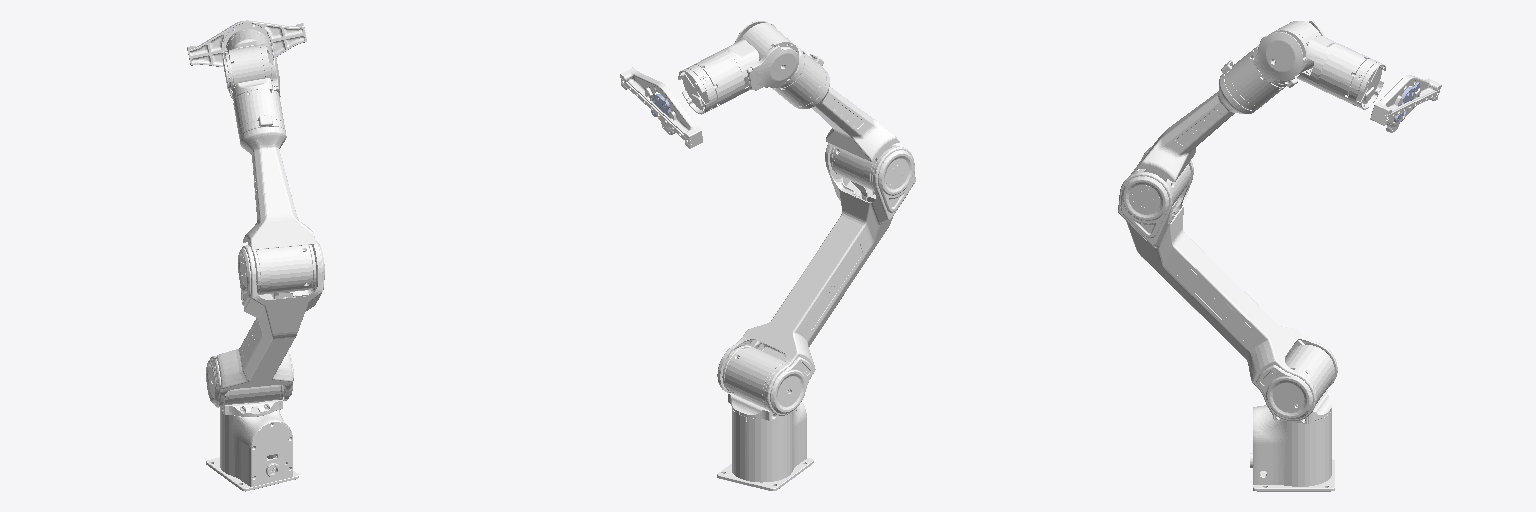
The robot description file, URDF, robot "armmu":
<?xml version="1.0" encoding="utf-8"?>
<!-- This URDF was automatically created by SolidWorks to URDF Exporter! Originally created by [author] ([email redacted]) 
     Commit Version: 1.6.0-4-g7f85cfe  Build Version: 1.6.7995.38578
     For more information, please see http://wiki.ros.org/sw_urdf_exporter -->
<robot
  name="armmu">
  <link
    name="base_link">
    <inertial>
      <origin
        xyz="-0.0049906 0.001504 0.0005019"
        rpy="0 0 0" />
      <mass
        value="0.16229" />
      <inertia
        ixx="0.00017754"
        ixy="-2.6436E-07"
        ixz="2.077E-07"
        iyy="0.00019628"
        iyz="-7.3089E-06"
        izz="0.00016048" />
    </inertial>
    <visual>
      <origin
        xyz="0 0 0"
        rpy="0 0 0" />
      <geometry>
        <mesh
          filename="package://armmu/meshes/base_link.STL" />
      </geometry>
      <material
        name="">
        <color
          rgba="1 1 1 1" />
      </material>
    </visual>
    <collision>
      <origin
        xyz="0 0 0"
        rpy="0 0 0" />
      <geometry>
        <mesh
          filename="package://armmu/meshes/base_link.STL" />
      </geometry>
    </collision>
  </link>
  <link
    name="Link1">
    <inertial>
      <origin
        xyz="-0.001121 0.033927 -0.00037542"
        rpy="0 0 0" />
      <mass
        value="0.10688" />
      <inertia
        ixx="7.7882E-05"
        ixy="-2.6155E-06"
        ixz="2.3433E-07"
        iyy="8.3471E-05"
        iyz="-2.4748E-07"
        izz="9.2224E-05" />
    </inertial>
    <visual>
      <origin
        xyz="0 0 0"
        rpy="0 0 0" />
      <geometry>
        <mesh
          filename="package://armmu/meshes/Link1.STL" />
      </geometry>
      <material
        name="">
        <color
          rgba="1 1 1 1" />
      </material>
    </visual>
    <collision>
      <origin
        xyz="0 0 0"
        rpy="0 0 0" />
      <geometry>
        <mesh
          filename="package://armmu/meshes/Link1.STL" />
      </geometry>
    </collision>
  </link>
  <joint
    name="joint1"
    type="continuous">
    <origin
      xyz="-0.0049371 0.00925 0.038437"
      rpy="1.5708 0 -0.29706" />
    <parent
      link="base_link" />
    <child
      link="Link1" />
    <axis
      xyz="0 1 0" />
    <limit
      lower="-3.14"
      upper="3.14"
      effort="100"
      velocity="1" />
  </joint>
  <link
    name="Link2">
    <inertial>
      <origin
        xyz="-0.0076562 0.0047022 0.15043"
        rpy="0 0 0" />
      <mass
        value="0.20392" />
      <inertia
        ixx="0.0016275"
        ixy="6.8723E-06"
        ixz="3.9371E-06"
        iyy="0.0016918"
        iyz="-0.00012712"
        izz="0.00023921" />
    </inertial>
    <visual>
      <origin
        xyz="0 0 0"
        rpy="0 0 0" />
      <geometry>
        <mesh
          filename="package://armmu/meshes/Link2.STL" />
      </geometry>
      <material
        name="">
        <color
          rgba="1 1 1 1" />
      </material>
    </visual>
    <collision>
      <origin
        xyz="0 0 0"
        rpy="0 0 0" />
      <geometry>
        <mesh
          filename="package://armmu/meshes/Link2.STL" />
      </geometry>
    </collision>
  </link>
  <joint
    name="joint2"
    type="continuous">
    <origin
      xyz="0 0.043 0"
      rpy="-0.78465 0 0" />
    <parent
      link="Link1" />
    <child
      link="Link2" />
    <axis
      xyz="-1 0 0" />
    <limit
      lower="-3.14"
      upper="3.14"
      effort="100"
      velocity="1" />
  </joint>
  <link
    name="Link3">
    <inertial>
      <origin
        xyz="-0.00043323 0.024114 -0.10205"
        rpy="0 0 0" />
      <mass
        value="0.25929" />
      <inertia
        ixx="0.00020923"
        ixy="5.8493E-07"
        ixz="-9.9948E-07"
        iyy="0.00018257"
        iyz="1.5246E-05"
        izz="9.7294E-05" />
    </inertial>
    <visual>
      <origin
        xyz="0 0 0"
        rpy="0 0 0" />
      <geometry>
        <mesh
          filename="package://armmu/meshes/Link3.STL" />
      </geometry>
      <material
        name="">
        <color
          rgba="1 1 1 1" />
      </material>
    </visual>
    <collision>
      <origin
        xyz="0 0 0"
        rpy="0 0 0" />
      <geometry>
        <mesh
          filename="package://armmu/meshes/Link3.STL" />
      </geometry>
    </collision>
  </link>
  <joint
    name="joint3"
    type="continuous">
    <origin
      xyz="0 0.038605 0.2824"
      rpy="1.4749 0 0" />
    <parent
      link="Link2" />
    <child
      link="Link3" />
    <axis
      xyz="-1 0 0" />
    <limit
      lower="-3.14"
      upper="3.14"
      effort="100"
      velocity="1" />
  </joint>
  <link
    name="Link4">
    <inertial>
      <origin
        xyz="0.00107635274212739 0.000824369137569558 -0.00710818442435024"
        rpy="0 0 0" />
      <mass
        value="0.120706822170496" />
      <inertia
        ixx="4.59017245988586E-05"
        ixy="-3.76106949082763E-08"
        ixz="-7.20048589622133E-08"
        iyy="3.66448805551282E-05"
        iyz="-2.53060525186735E-07"
        izz="3.89787401023863E-05" />
    </inertial>
    <visual>
      <origin
        xyz="0 0 0"
        rpy="0 0 0" />
      <geometry>
        <mesh
          filename="package://armmu/meshes/Link4.STL" />
      </geometry>
      <material
        name="">
        <color
          rgba="1 1 1 1" />
      </material>
    </visual>
    <collision>
      <origin
        xyz="0 0 0"
        rpy="0 0 0" />
      <geometry>
        <mesh
          filename="package://armmu/meshes/Link4.STL" />
      </geometry>
    </collision>
  </link>
  <joint
    name="joint4"
    type="continuous">
    <origin
      xyz="0 0.042715 -0.23598"
      rpy="-0.17245 0.019034 -2.9223" />
    <parent
      link="Link3" />
    <child
      link="Link4" />
    <axis
      xyz="0 -0.087161 0.99619" />
    <limit
      lower="-3.14"
      upper="3.14"
      effort="100"
      velocity="1" />
  </joint>
  <link
    name="Link5">
    <inertial>
      <origin
        xyz="0.0016938 0.0083734 -0.094123"
        rpy="0 0 0" />
      <mass
        value="0.29225" />
      <inertia
        ixx="0.00015798"
        ixy="-6.905E-08"
        ixz="-2.437E-05"
        iyy="0.00022382"
        iyz="2.8075E-06"
        izz="0.00018803" />
    </inertial>
    <visual>
      <origin
        xyz="0 0 0"
        rpy="0 0 0" />
      <geometry>
        <mesh
          filename="package://armmu/meshes/Link5.STL" />
      </geometry>
      <material
        name="">
        <color
          rgba="1 1 1 1" />
      </material>
    </visual>
    <collision>
      <origin
        xyz="0 0 0"
        rpy="0 0 0" />
      <geometry>
        <mesh
          filename="package://armmu/meshes/Link5.STL" />
      </geometry>
    </collision>
  </link>
  <joint
    name="joint5"
    type="continuous">
    <origin
      xyz="0 0.001041 -0.011898"
      rpy="1.022 0 0" />
    <parent
      link="Link4" />
    <child
      link="Link5" />
    <axis
      xyz="-1 0 0" />
    <limit
      lower="-3.14"
      upper="3.14"
      effort="100"
      velocity="1" />
  </joint>
  <link
    name="Link6">
    <inertial>
      <origin
        xyz="-1.078E-06 -0.0079358 1.396E-06"
        rpy="0 0 0" />
      <mass
        value="0.0050886" />
      <inertia
        ixx="5.534E-07"
        ixy="1.3344E-11"
        ixz="1.5837E-07"
        iyy="9.9659E-07"
        iyz="-1.7332E-11"
        izz="4.6806E-07" />
    </inertial>
    <visual>
      <origin
        xyz="0 0 0"
        rpy="0 0 0" />
      <geometry>
        <mesh
          filename="package://armmu/meshes/Link6.STL" />
      </geometry>
      <material
        name="">
        <color
          rgba="0.79216 0.81961 0.93333 1" />
      </material>
    </visual>
    <collision>
      <origin
        xyz="0 0 0"
        rpy="0 0 0" />
      <geometry>
        <mesh
          filename="package://armmu/meshes/Link6.STL" />
      </geometry>
    </collision>
  </link>
  <joint
    name="joint6"
    type="continuous">
    <origin
      xyz="0 0.012403 -0.14176"
      rpy="1.5569 0.086158 -1.7311" />
    <parent
      link="Link5" />
    <child
      link="Link6" />
    <axis
      xyz="0 -1 0" />
    <limit
      lower="-3.14"
      upper="3.14"
      effort="100"
      velocity="1" />
  </joint>
</robot>

--- What the picture shows (computed from the rendered views, not written in the file) ---
3 views of the same robot in one strip: view 1: azimuth 30°, elevation 25°; view 2: azimuth 150°, elevation 25°; view 3: azimuth 270°, elevation 25° (orthographic).
Model armmu with 7 links and 6 joints (6 continuous), rooted at base_link, posed all joints at 0.
Links seen in each view (by area): view 1: Link3, Link2, base_link, Link5, Link4, Link1; view 2: Link2, Link5, Link3, base_link, Link1, Link4; view 3: Link2, Link3, base_link, Link5, Link4, Link1.
Boxes of the visible links, <box> form: Link3: <box>233,90,315,294</box>; Link2: <box>206,240,324,407</box>; base_link: <box>206,408,298,491</box>; Link5: <box>187,20,306,97</box>; Link4: <box>229,43,280,100</box>; Link1: <box>220,385,283,416</box>; Link2: <box>717,143,915,415</box>; Link5: <box>620,39,798,148</box>; Link3: <box>772,51,899,191</box>; base_link: <box>717,402,813,490</box>; Link1: <box>722,345,796,420</box>; Link4: <box>735,21,804,88</box>; Link2: <box>1118,147,1337,420</box>; Link3: <box>1131,48,1284,205</box>; base_link: <box>1250,405,1334,491</box>; Link5: <box>1297,21,1441,132</box>; Link4: <box>1253,21,1320,87</box>; Link1: <box>1270,345,1334,423</box>.
Bounding box of the posed robot: 0.2396 × 0.3715 × 0.5714 m (x, y, z).
7 mesh visuals loaded from 7 distinct referenced files (7 binary STL).
